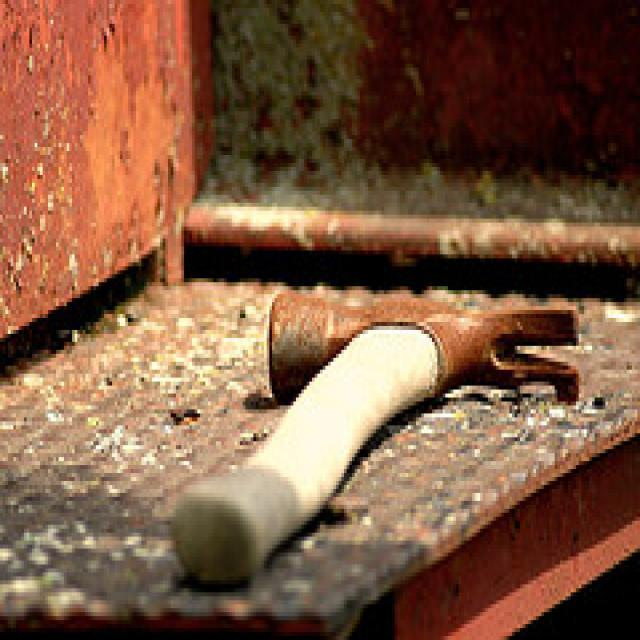hammer: (165, 282, 589, 598)
